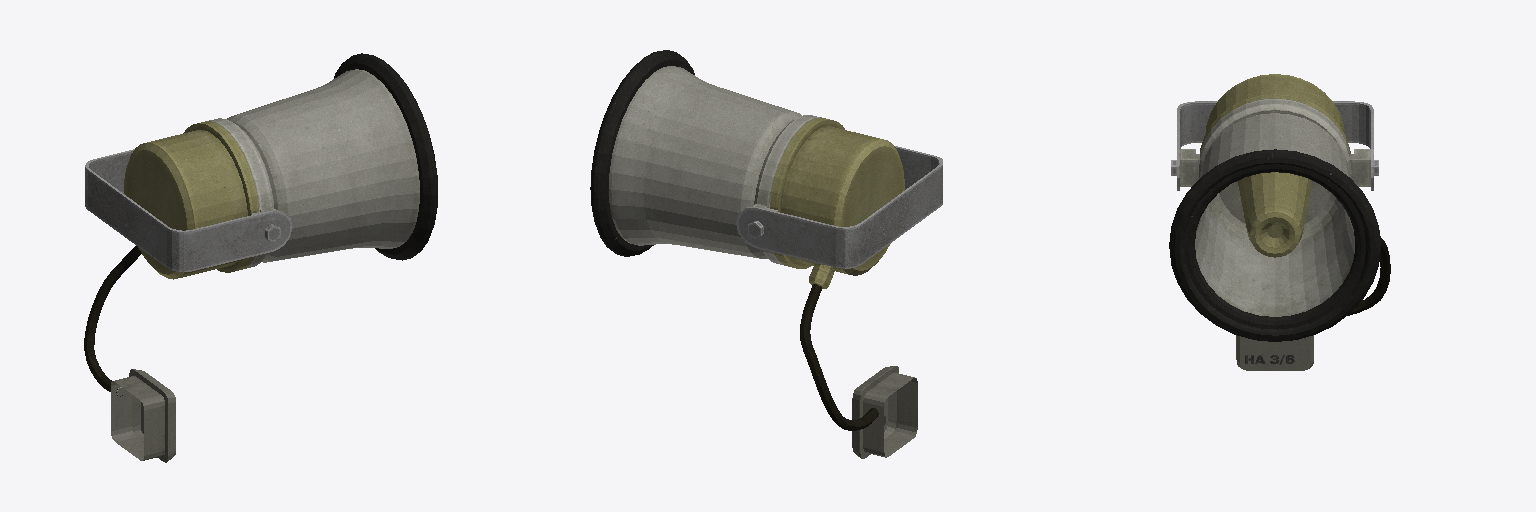
The picture shows the model from 3 angles: view 1: azimuth 30°, elevation 25°; view 2: azimuth 150°, elevation 25°; view 3: azimuth 270°, elevation 25°; orthographic projection.
Parts seen in each view (by area): view 1: loudspeaker; view 2: loudspeaker; view 3: loudspeaker.
Boxes of the visible parts, box(x1,y1,x2,y2) form: loudspeaker: box(84, 53, 437, 462); loudspeaker: box(590, 50, 942, 458); loudspeaker: box(1169, 74, 1390, 370).
Size of the model in its own units: 36.34 by 44.28 by 26.68.
1 materials, 1 textured.